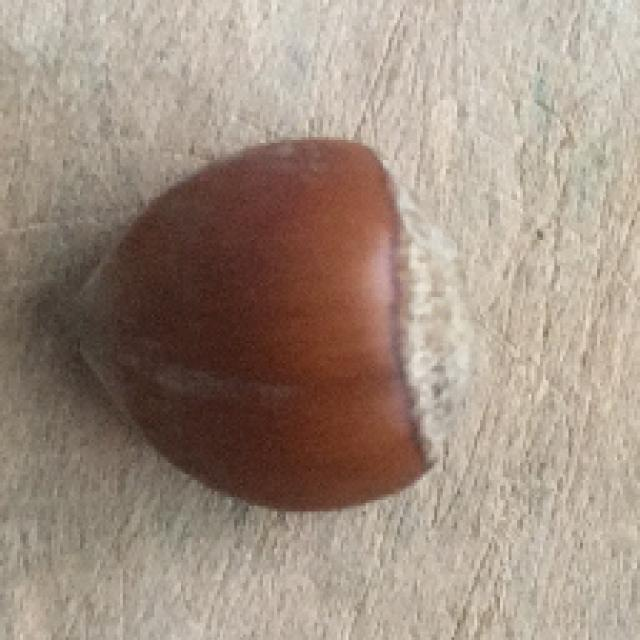QualityHazelnut: (74, 136, 472, 516)
